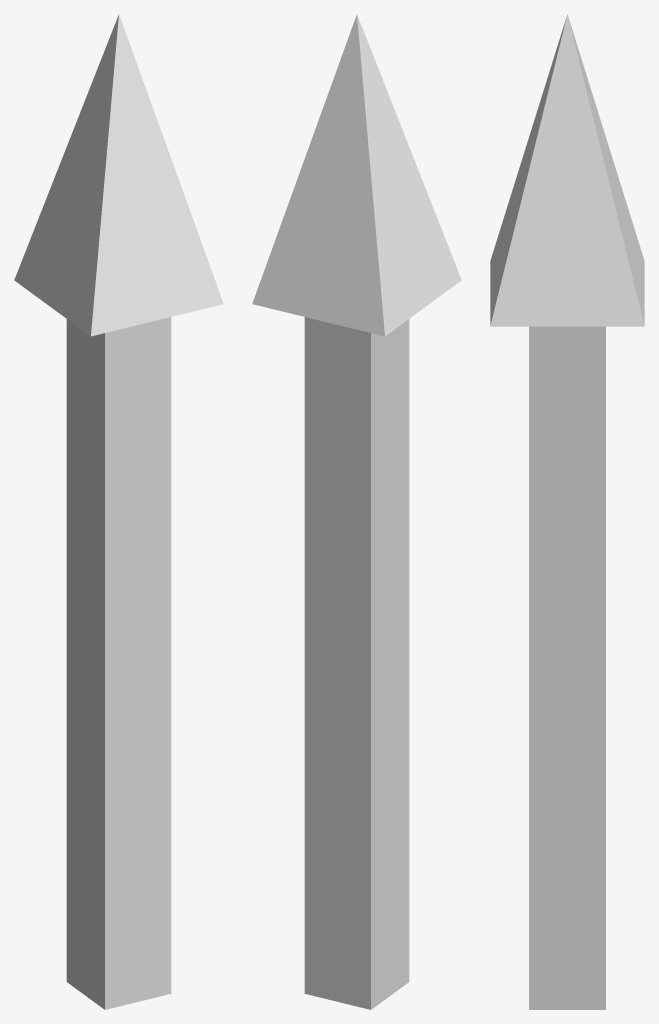
The model's file is gizmoArrow.fbx.
3 views of the same model, side by side, from view 1: azimuth 30°, elevation 25°; view 2: azimuth 150°, elevation 25°; view 3: azimuth 270°, elevation 25° (orthographic).
Visible parts, largest first — view 1: cube, pyramid; view 2: cube, pyramid; view 3: cube, pyramid.
Part boxes in pixels (box(x1,y1,x2,y2)): cube: box(66, 317, 171, 1009); pyramid: box(14, 14, 223, 336); cube: box(304, 317, 409, 1009); pyramid: box(252, 14, 461, 336); cube: box(529, 326, 605, 1009); pyramid: box(490, 14, 644, 326).
Bounding box in the file's own units: 12.5 × 87.5 × 12.5.
1 material, 1 textured.
